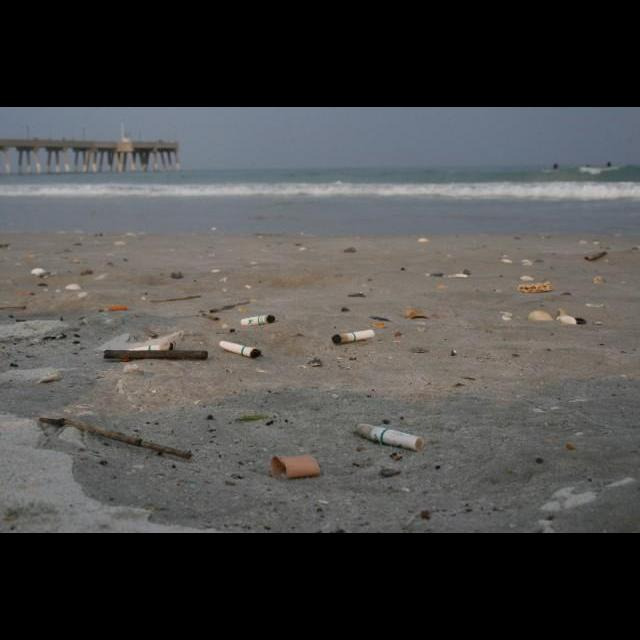Cigarette Butt: (354, 421, 425, 453), (218, 339, 263, 359), (331, 328, 376, 345), (126, 340, 179, 353), (240, 313, 277, 328), (96, 303, 132, 314)
